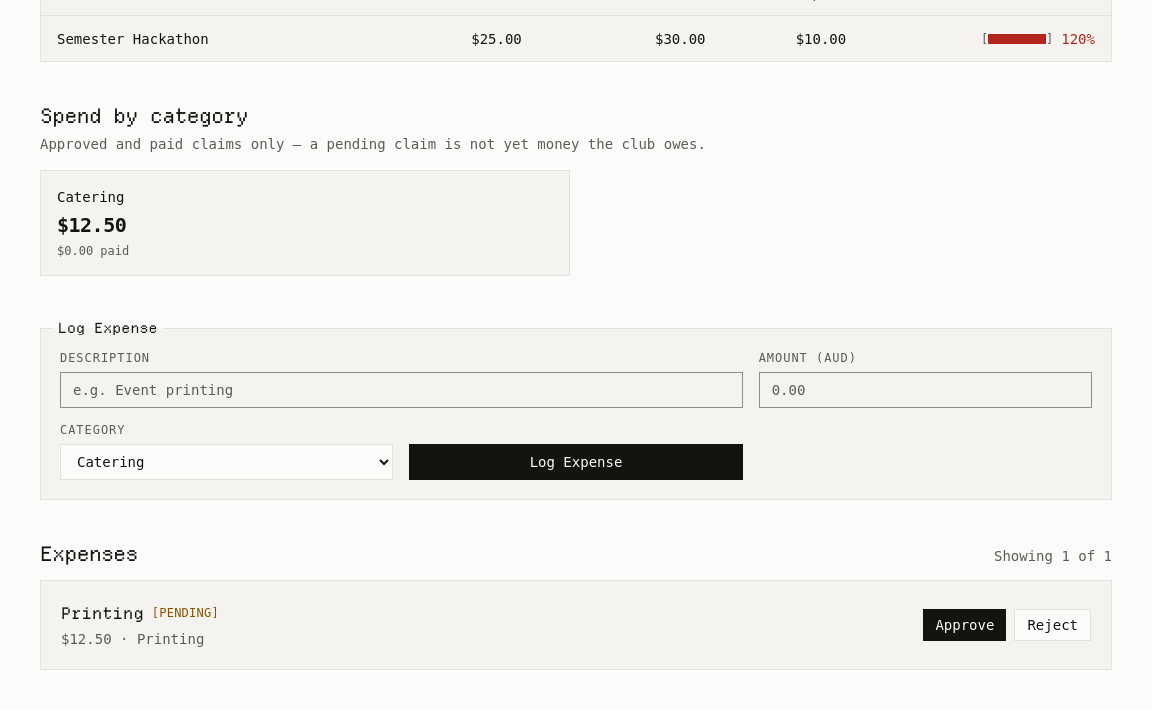
Test: FinancePage › staying live › does not let a poll that started before an action overwrite its result
(page scrolled)
# The user approves while that older read is still in flight...
Click the button with aria-label "Approve Printing".
click(965, 625)  # box top-left (923, 609), bottom-right (1006, 641)
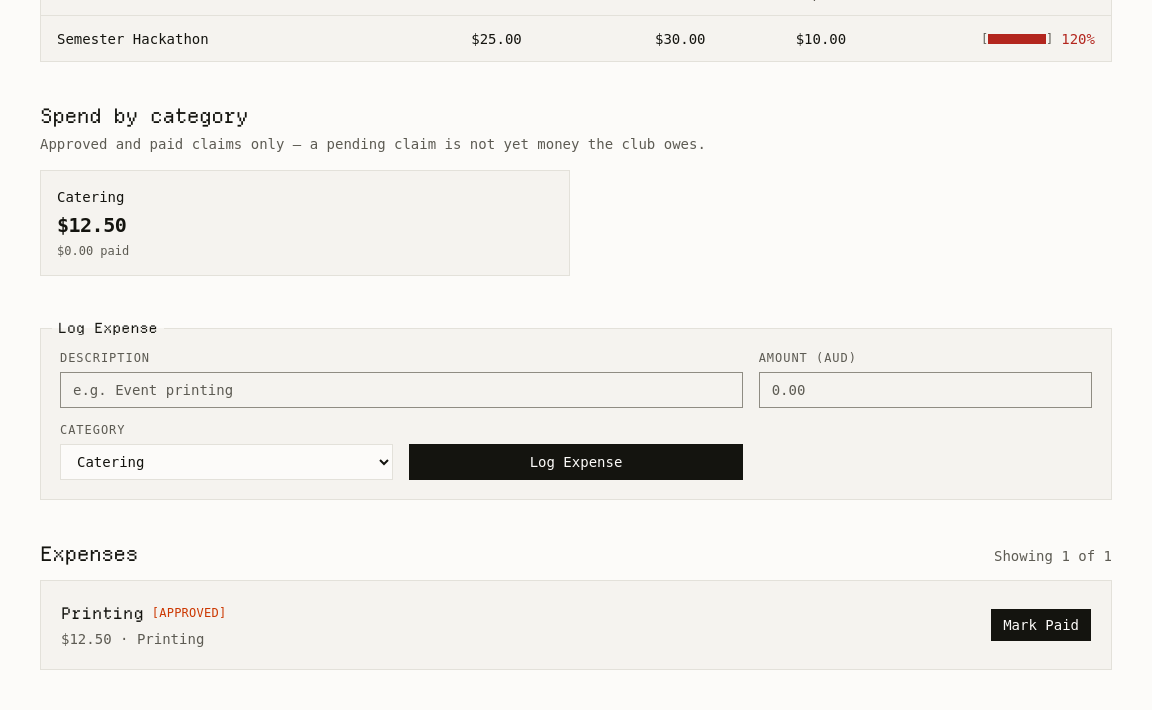
expect the button with aria-label "Mark Printing paid" is shown: met, box top-left (991, 609), bottom-right (1091, 641)
